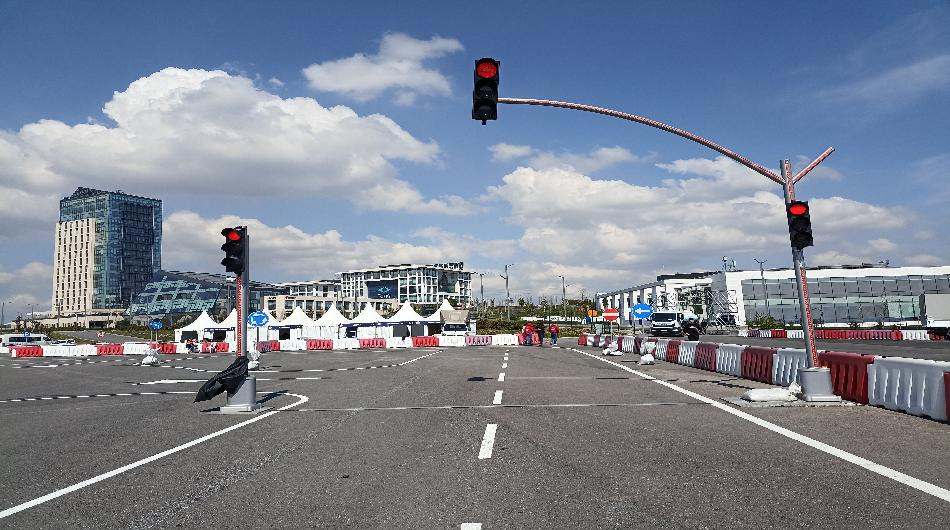red_light: (471, 58, 506, 120), (222, 226, 255, 277), (785, 200, 815, 250)
